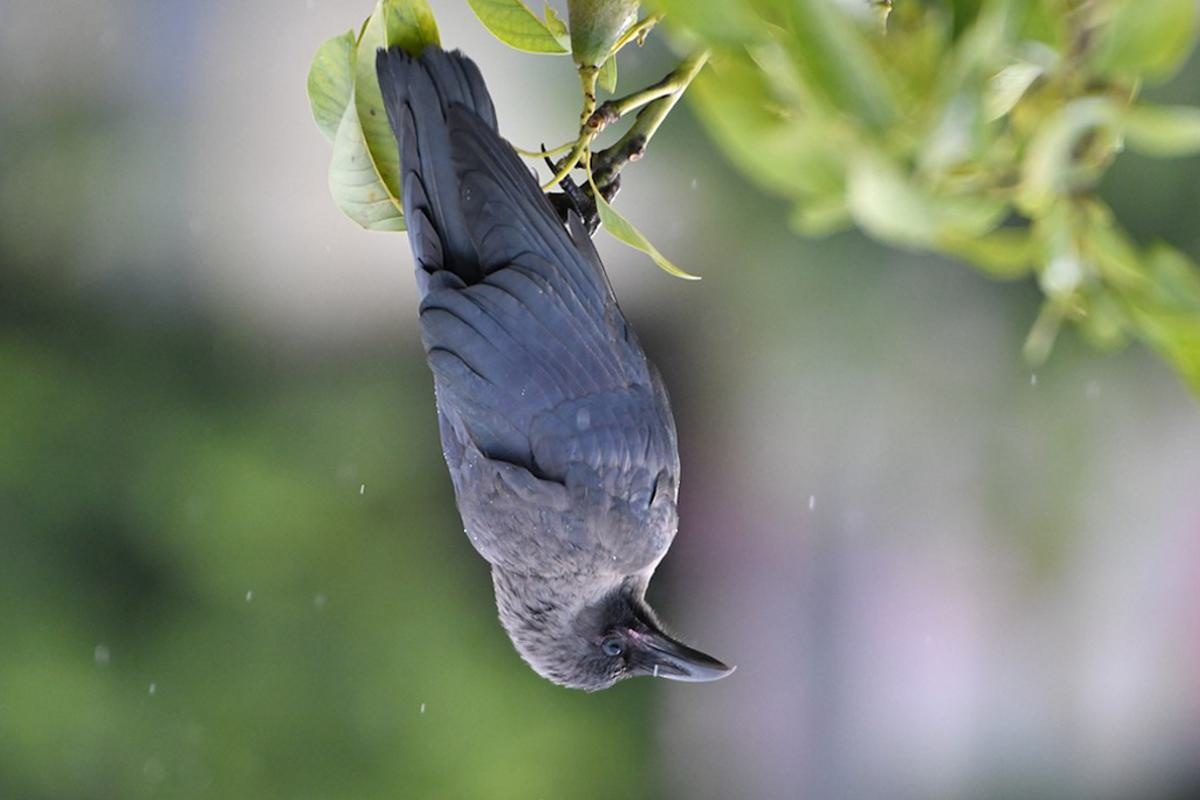crow: (356, 38, 747, 703)
